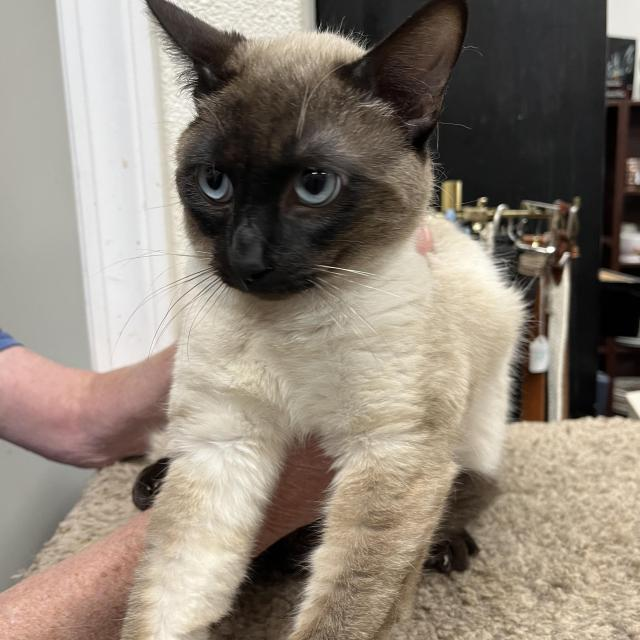siamese_cat: (129, 2, 484, 340)
